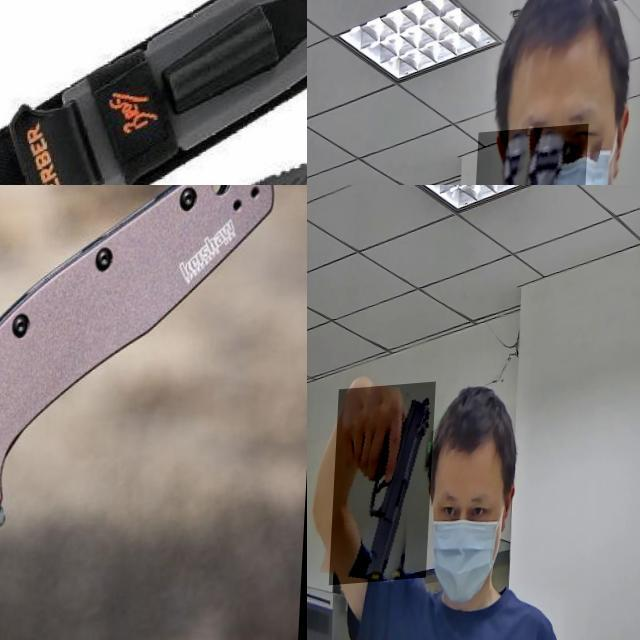-: (0, 400, 151, 640)
gun-knife-thesis - v11 Yolov5 augmented: (334, 384, 440, 586)
